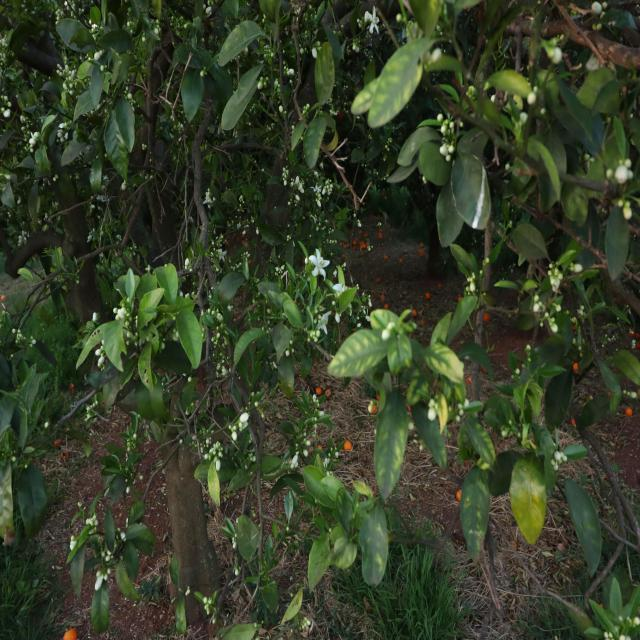Bunga: (205, 437, 223, 471), (309, 248, 328, 280), (364, 5, 380, 36), (613, 158, 632, 183), (552, 448, 568, 472), (548, 263, 562, 290), (95, 568, 111, 591), (95, 338, 106, 371), (437, 112, 455, 132), (438, 142, 456, 161), (590, 0, 608, 19), (310, 183, 322, 209), (321, 310, 332, 336), (202, 187, 215, 208), (312, 394, 324, 416), (113, 306, 129, 322), (28, 131, 40, 152), (238, 412, 248, 433), (126, 92, 136, 112), (12, 328, 26, 342), (65, 64, 75, 83), (323, 456, 333, 475), (294, 176, 305, 193), (322, 178, 333, 195), (85, 514, 98, 528), (334, 283, 348, 296), (228, 424, 238, 442), (202, 597, 212, 615), (288, 454, 298, 471), (102, 548, 114, 562), (281, 166, 289, 186), (534, 295, 542, 314), (258, 75, 268, 90), (263, 44, 273, 59), (218, 247, 227, 263), (66, 4, 76, 18), (153, 18, 161, 35), (70, 535, 78, 551), (21, 126, 30, 140), (86, 228, 95, 242), (203, 3, 211, 18), (298, 44, 308, 56), (274, 78, 282, 93), (184, 257, 192, 272), (18, 230, 26, 245), (1, 94, 10, 107), (284, 65, 294, 75), (572, 263, 582, 273), (57, 129, 64, 143), (56, 8, 64, 20), (278, 104, 286, 116), (1, 109, 11, 118), (94, 50, 103, 60), (302, 104, 310, 115), (56, 64, 63, 76), (29, 336, 36, 348), (238, 194, 246, 204), (0, 38, 8, 47), (20, 115, 28, 124), (91, 28, 97, 40), (312, 47, 318, 59), (335, 312, 342, 322), (69, 83, 74, 96), (127, 20, 135, 28), (316, 40, 322, 50), (145, 264, 152, 272), (58, 123, 68, 128), (121, 180, 126, 190), (62, 83, 68, 91), (78, 7, 84, 14), (142, 32, 146, 42), (92, 312, 96, 322), (64, 132, 68, 138), (100, 64, 104, 70)
